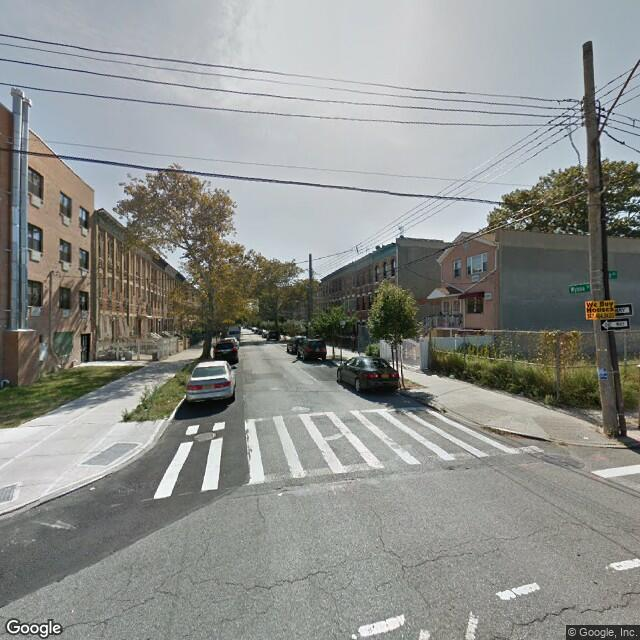litter: (88, 481, 96, 491), (580, 434, 587, 442), (448, 373, 453, 380), (431, 373, 438, 377)
